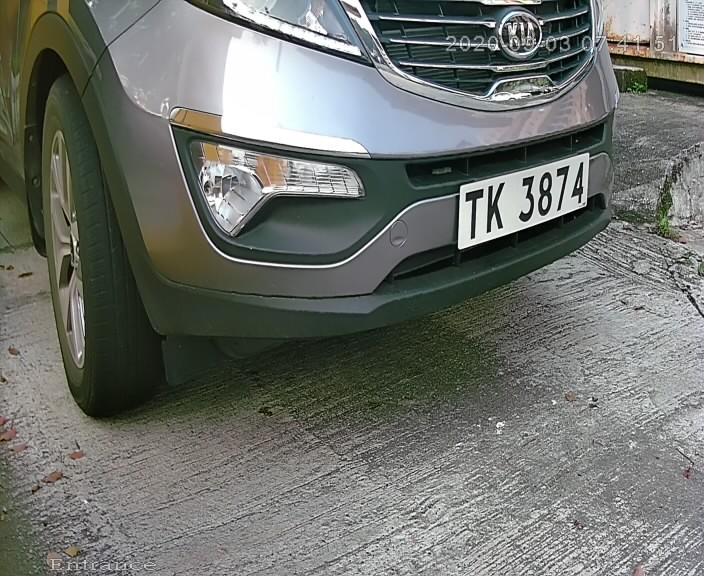Car: (23, 1, 683, 394)
License Plate: (453, 142, 598, 255)
